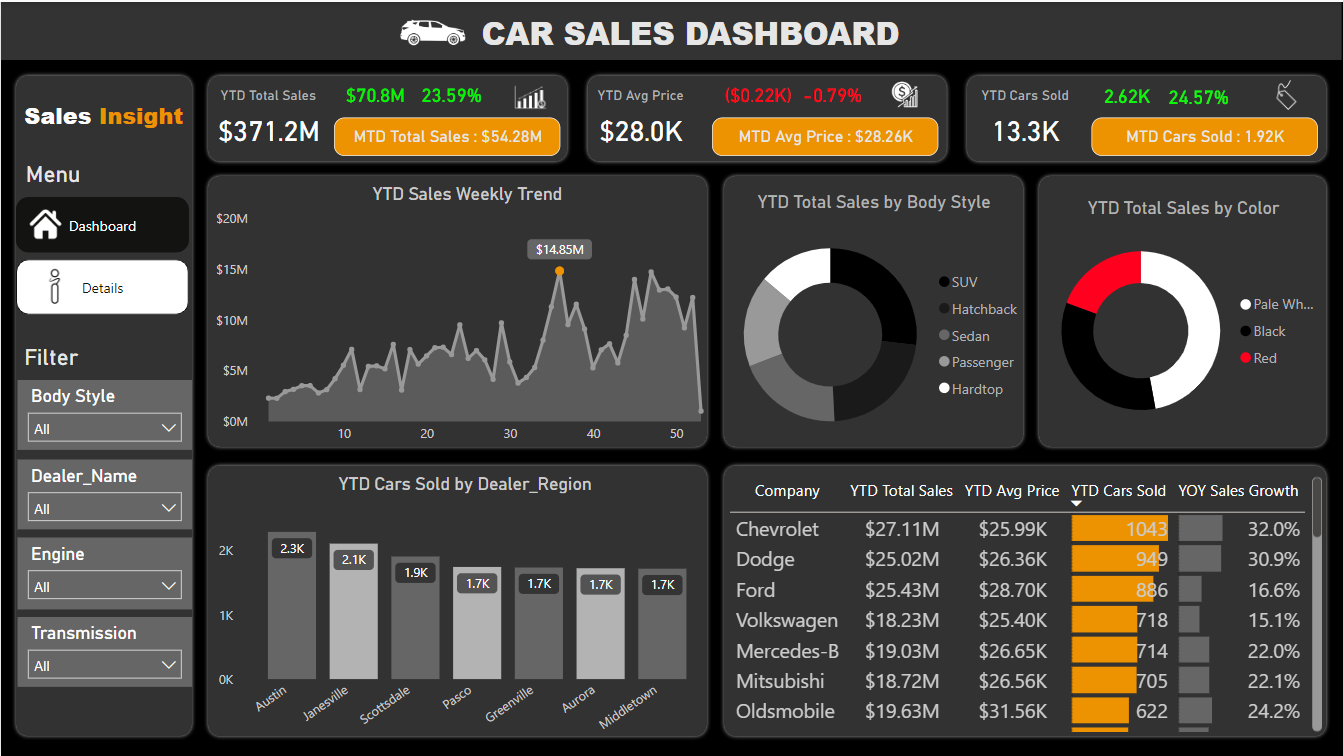

Layout of this report page (visuals, bound fields, positions):
{"tool":"powerbi","page":{"name":"Dashboard","canvas":[1280,720],"ordinal":0},"visuals":[{"type":"shape","box":[0,0,1279.5,55.6],"z":0},{"type":"shape","box":[10.1,67.2,176.4,638.9],"z":0,"group":"g1"},{"type":"image","box":[16.7,185,50,55],"z":0,"group":"g2"},{"type":"group","id":"g1","title":"Background","box":[10.1,66.5,1259.1,639.6],"z":1000},{"type":"shape","box":[193.2,66.5,351.3,90.6],"z":1000,"group":"g1"},{"type":"textbox","title":"savdgbsd","box":[18.4,146.7,78,40.9],"z":1000,"group":"g2"},{"type":"shape","box":[193.2,161.9,484.8,267],"z":2000,"group":"g1"},{"type":"donutChart","fields":{"Y":["Measure Table.YTD Total Sales"],"Category":["car_data.Body Style"]},"box":[682.4,181,300.4,254.3],"z":2000},{"type":"card","fields":{"Values":["Measure Table.Sales Difference"]},"box":[317.9,66.8,77.9,42.9],"z":3000},{"type":"shape","box":[193.2,438.4,484.8,267],"z":3000,"group":"g1"},{"type":"card","title":"YTD Total Sales","fields":{"Values":["Measure Table.YTD Total Sales"]},"box":[186,81.1,138.3,65.2],"z":4000},{"type":"shape","box":[685.9,438.4,583.3,267],"z":4000,"group":"g1"},{"type":"shape","box":[685.9,161.9,294,267],"z":5000,"group":"g1"},{"type":"textbox","title":"savdgbsd","box":[17.1,320.7,140,90],"z":5000},{"type":"card","fields":{"Values":["Measure Table.YOY Sales  Growth"]},"box":[392.6,66.8,74.7,42.9],"z":6000},{"type":"shape","box":[986.3,161.9,282.9,267],"z":6000,"group":"g1"},{"type":"shape","box":[917.9,66.5,351.3,90.6],"z":7000,"group":"g1"},{"type":"card","fields":{"Values":["Measure Table.MTD KPI"]},"box":[317.9,109.7,216.2,36.6],"z":7000},{"type":"shape","box":[555.6,66.5,351.3,90.6],"z":8000,"group":"g1"},{"type":"card","title":"YTD Avg Price","fields":{"Values":["Measure Table.YTD Avg Price"]},"box":[561.1,81.1,98.5,65.2],"z":8000},{"type":"card","fields":{"Values":["Measure Table.MTD Avg Price KPI"]},"box":[678.7,109.7,216.2,36.6],"z":9000},{"type":"card","fields":{"Values":["Measure Table.Avg Price Difference"]},"box":[681.9,68.3,81.1,41.3],"z":10000},{"type":"card","fields":{"Values":["Measure Table.YOY Avg Growth"]},"box":[747,66.8,90.6,44.5],"z":11000},{"type":"card","title":"YTD Cars Sold","fields":{"Values":["Measure Table.YTD Cars Sold"]},"box":[923.4,81.1,108.1,65.2],"z":12000},{"type":"card","fields":{"Values":["Measure Table.MTD Cars Sold KPI"]},"box":[1041.1,109.7,216.2,36.6],"z":13000},{"type":"card","fields":{"Values":["Measure Table.Cars Sold Difference"]},"box":[1031.5,66.8,84.2,46.1],"z":14000},{"type":"card","fields":{"Values":["Measure Table.YOY Cars Sold Growth"]},"box":[1084,65.2,117.6,50.9],"z":15000},{"type":"donutChart","fields":{"Y":["Measure Table.YTD Total Sales"],"Category":["car_data.Color"]},"box":[987,186,281.3,235.2],"z":16000},{"type":"tableEx","fields":{"Values":["car_data.Company","Measure Table.YTD Total Sales","Measure Table.YTD Avg Price","Measure Table.YTD Cars Sold","Measure Table.YOY Sales  Growth"]},"box":[689.8,448.2,575.4,252.7],"z":17000},{"type":"areaChart","title":"YTD Sales Weekly Trend","fields":{"Category":["Calender Table.Week"],"Y":["Sum(car_data.Price ($))","Measure Table.Max Point"]},"box":[198.3,173.3,491.7,256.7],"z":18000},{"type":"clusteredColumnChart","fields":{"Category":["car_data.Dealer_Region"],"Y":["Measure Table.YTD Cars Sold"]},"box":[201.7,450,481.7,268.3],"z":19000},{"type":"textbox","title":"Sales Insight","box":[1.7,86.7,193.3,51.7],"z":20000},{"type":"slicer","fields":{"Values":["car_data.Body Style"]},"box":[15.4,361.3,166.7,66.7],"z":21000},{"type":"slicer","fields":{"Values":["car_data.Dealer_Name"]},"box":[15.4,436.1,166.7,66.7],"z":22000},{"type":"pageNavigator","box":[15,186.7,165,113.3],"z":23000},{"type":"slicer","fields":{"Values":["car_data.Engine"]},"box":[15.6,510.8,166.7,68.3],"z":24000},{"type":"slicer","fields":{"Values":["car_data.Transmission"]},"box":[15.6,587.3,166.7,66.7],"z":25000},{"type":"group","id":"g2","title":"menu","box":[16.7,146.7,79.6,93.3],"z":26000},{"type":"textbox","title":"CAR SALES DASHBOARD","box":[440,8.3,436.7,46.7],"z":27000},{"type":"image","box":[356.7,1.7,111.7,55],"z":28000},{"type":"image","box":[476.7,60,56.7,61.7],"z":29000},{"type":"image","box":[1198.3,60,56.7,56.7],"z":30000},{"type":"image","box":[836.7,65,50,46.7],"z":31000},{"type":"image","box":[23.3,240,56.7,61.7],"z":32000}]}

Visuals, with their boxes in screenshot pixels (x1, y1, x2, y2), scaled from the page's 1280x720 canvas onto the 1343x756 screenshot:
shape: 0/0/1342/58
shape: 11/71/196/741
image: 18/194/70/252
"Background" group: 11/70/1332/741
shape: 203/70/571/165
"savdgbsd" textbox: 19/154/101/197
shape: 203/170/711/450
donutChart - Measure Table.YTD Total Sales x car_data.Body Style: 716/190/1031/457
card - Measure Table.Sales Difference: 334/70/415/115
shape: 203/460/711/741
"YTD Total Sales" card: 195/85/340/154
shape: 720/460/1332/741
shape: 720/170/1028/450
"savdgbsd" textbox: 18/337/165/431
card - Measure Table.YOY Sales  Growth: 412/70/490/115
shape: 1035/170/1332/450
shape: 963/70/1332/165
card - Measure Table.MTD KPI: 334/115/560/154
shape: 583/70/952/165
"YTD Avg Price" card: 589/85/692/154
card - Measure Table.MTD Avg Price KPI: 712/115/939/154
card - Measure Table.Avg Price Difference: 715/72/801/115
card - Measure Table.YOY Avg Growth: 784/70/879/117
"YTD Cars Sold" card: 969/85/1082/154
card - Measure Table.MTD Cars Sold KPI: 1092/115/1319/154
card - Measure Table.Cars Sold Difference: 1082/70/1171/119
card - Measure Table.YOY Cars Sold Growth: 1137/68/1261/122
donutChart - Measure Table.YTD Total Sales x car_data.Color: 1036/195/1331/442
tableEx - car_data.Company x Measure Table.YTD Total Sales: 724/471/1327/736
"YTD Sales Weekly Trend" areaChart: 208/182/724/452
clusteredColumnChart - car_data.Dealer_Region x Measure Table.YTD Cars Sold: 212/472/717/754
"Sales Insight" textbox: 2/91/205/145
slicer - car_data.Body Style: 16/379/191/449
slicer - car_data.Dealer_Name: 16/458/191/528
pageNavigator: 16/196/189/315
slicer - car_data.Engine: 16/536/191/608
slicer - car_data.Transmission: 16/617/191/687
"menu" group: 18/154/101/252
"CAR SALES DASHBOARD" textbox: 462/9/920/58
image: 374/2/491/60
image: 500/63/560/128
image: 1257/63/1317/123
image: 878/68/930/117
image: 24/252/84/317
